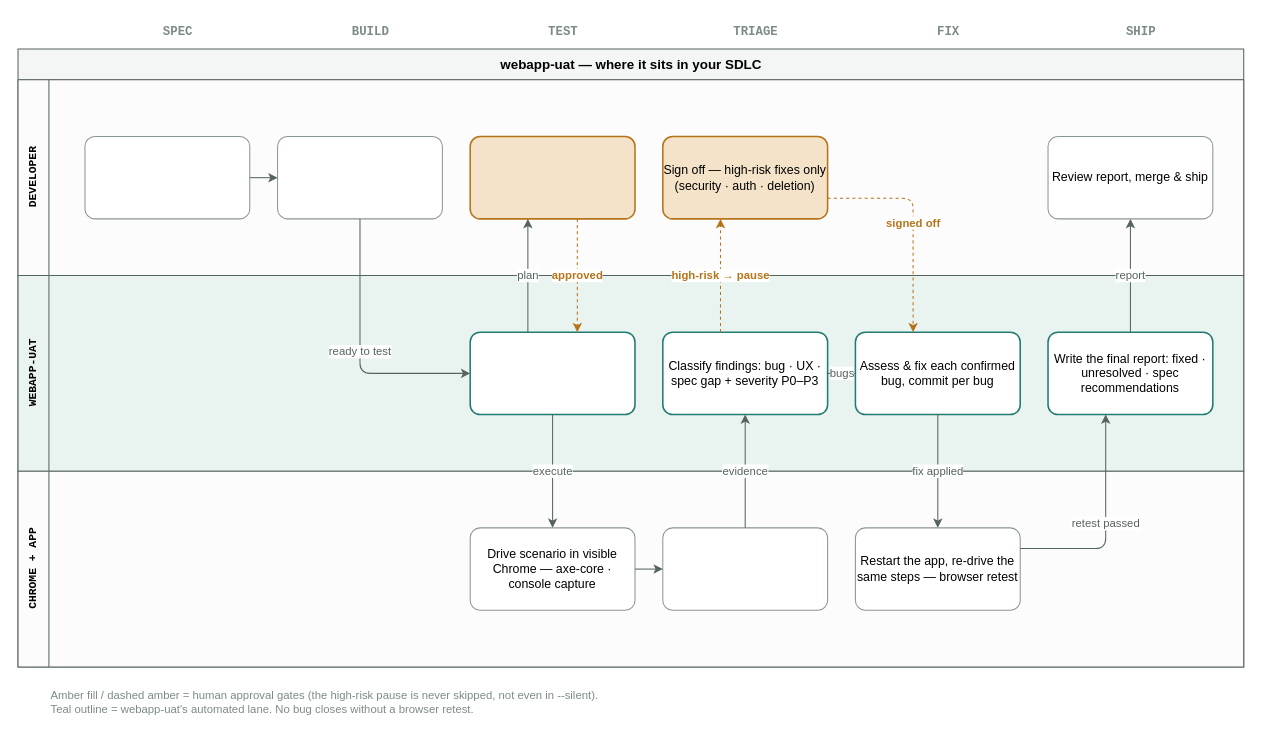
This 1262x741 diagram has some shape labels left out. Each missing label, with the centre of its shape:
"Approve the test plan" belongs at point 552,177.
"Backend verification: API or direct DB read — not just what the UI says" belongs at point 745,568.
"Generate & tighten scenarios (specs · validation code · routes)" belongs at point 552,373.
"Implement the feature" belongs at point 359,177.
"Write specs & acceptance criteria" belongs at point 167,177.
